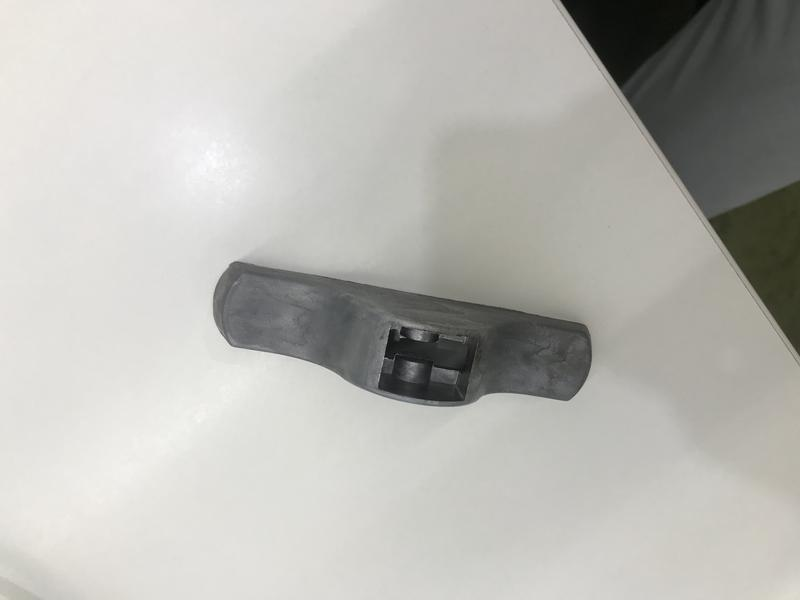zapchast: (201, 250, 610, 423)
